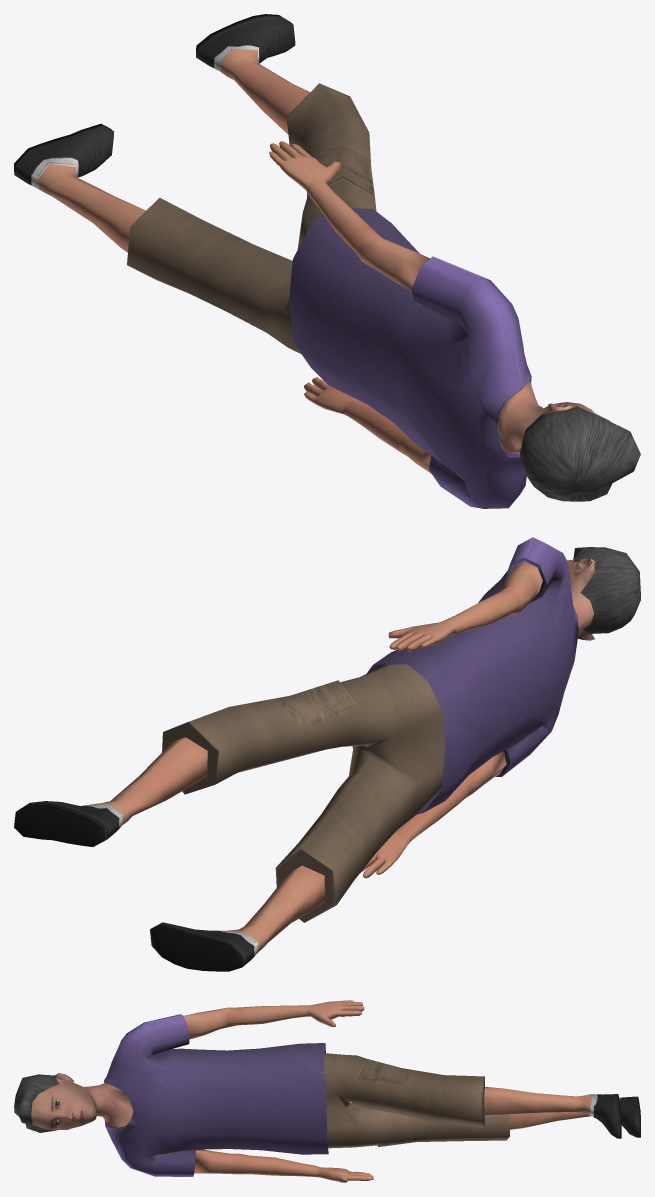
Rendered from walk.obj.
The picture shows the model from 3 angles, top to bottom: view 1: azimuth 30°, elevation 25°; view 2: azimuth 150°, elevation 25°; view 3: azimuth 270°, elevation 25°; orthographic projection. The views are drawn at different scales.
Size of the model in its own units: 0.5402 by 0.5106 by 1.78.
Materials: 1 (1 with a texture image).
